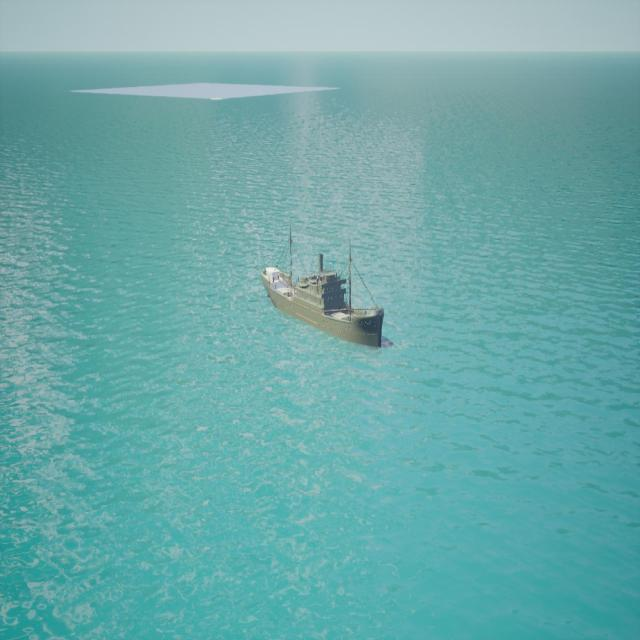fishing ship: (260, 261, 387, 352)
